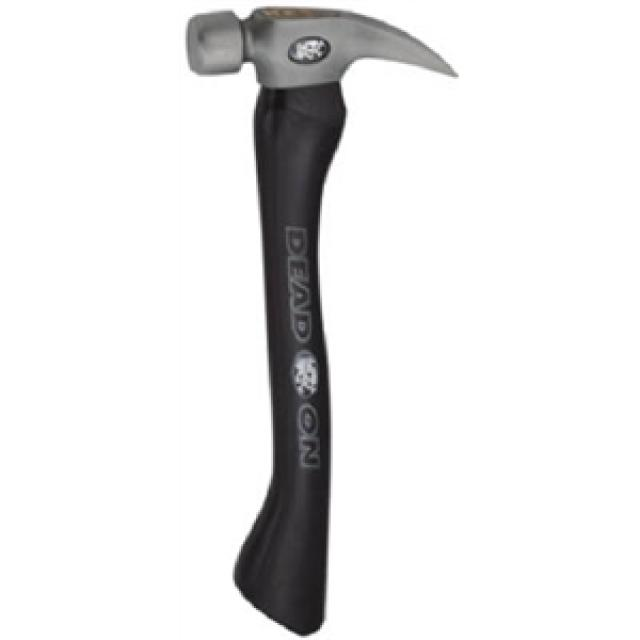hammer: (154, 0, 464, 640)
